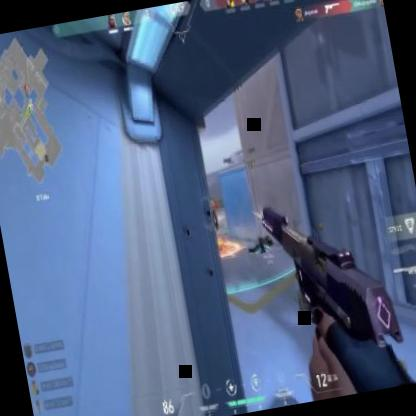enemy: (209, 198, 219, 230)
enemy_head: (210, 200, 214, 205)
